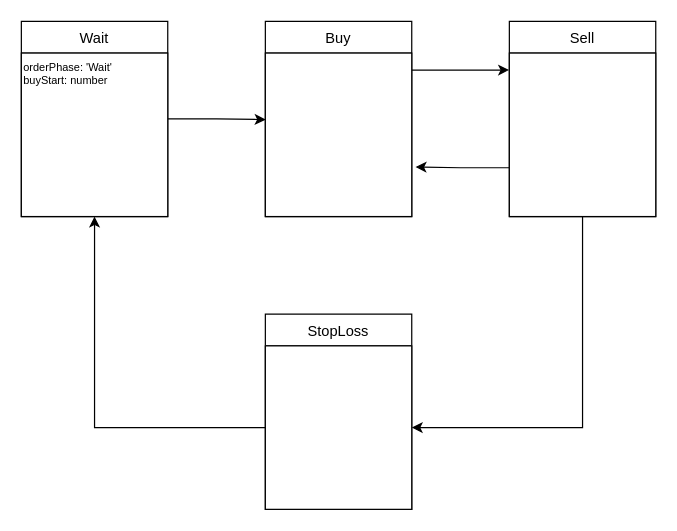
Some shapes in this 677 by 531 pixel diagram are drawn without their labels. The shapes that lost their labels are listed below. From the top down, each one's box as (x1, y1, x2, y2) in pixels, then its label:
(264, 52, 412, 217): orderPhase: 'Buy'
(508, 52, 656, 217): orderPhase: 'Sell' buyPrice: number
(264, 345, 412, 509): orderPhase: 'StopLoss'
